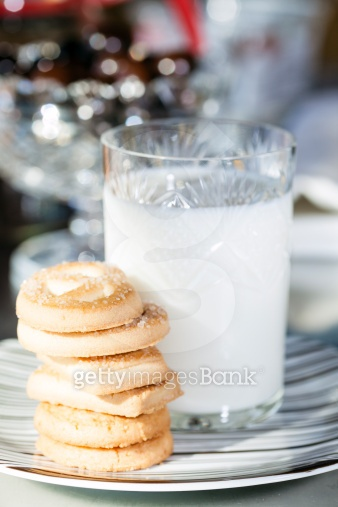glass of milk: (92, 107, 304, 437)
